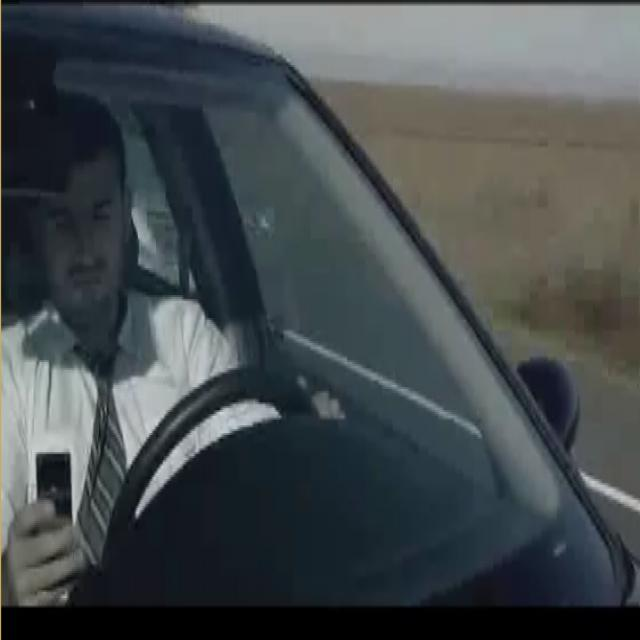Cellphone_texting: (3, 443, 85, 607)
